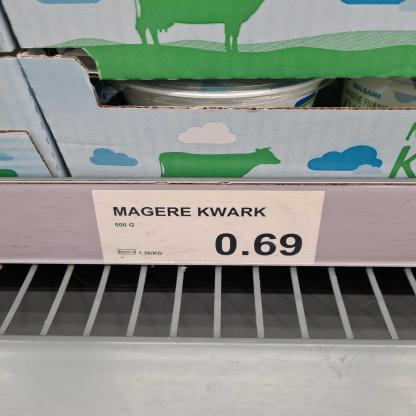prtg: (93, 191, 326, 265)
